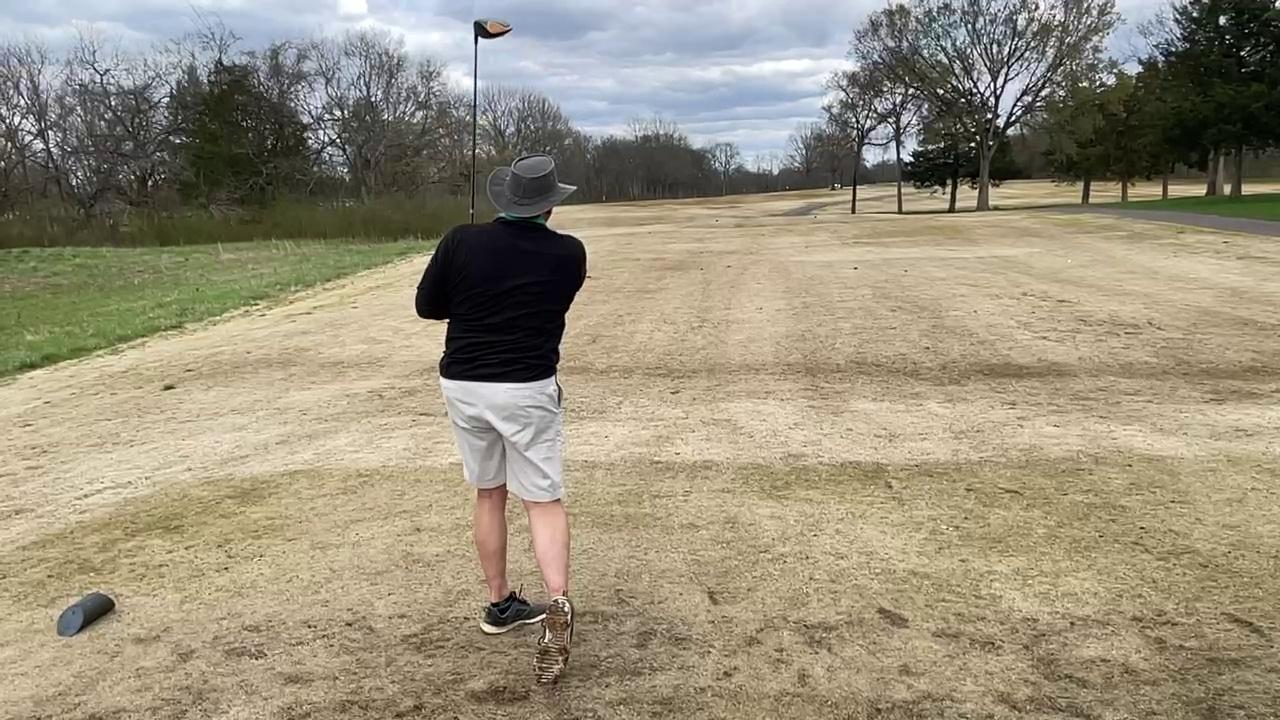ClubHead: (464, 11, 518, 53)
